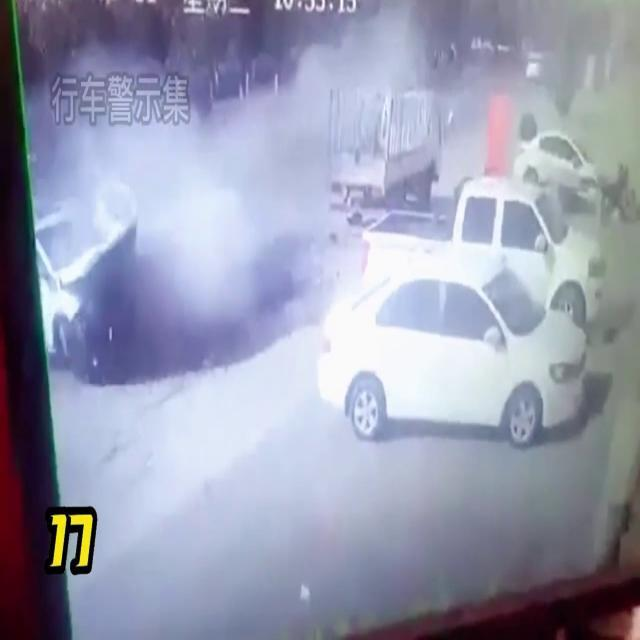accident: (32, 162, 318, 388)
non-accident: (322, 182, 608, 448)
